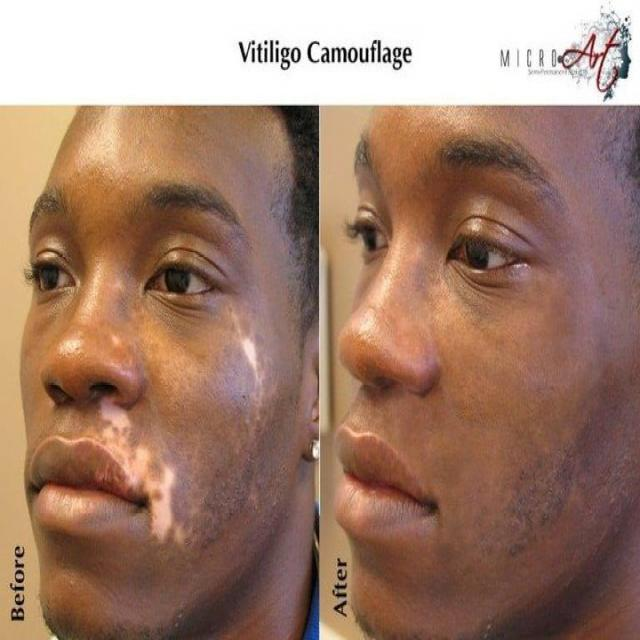vitiligo: (105, 357, 301, 573)
